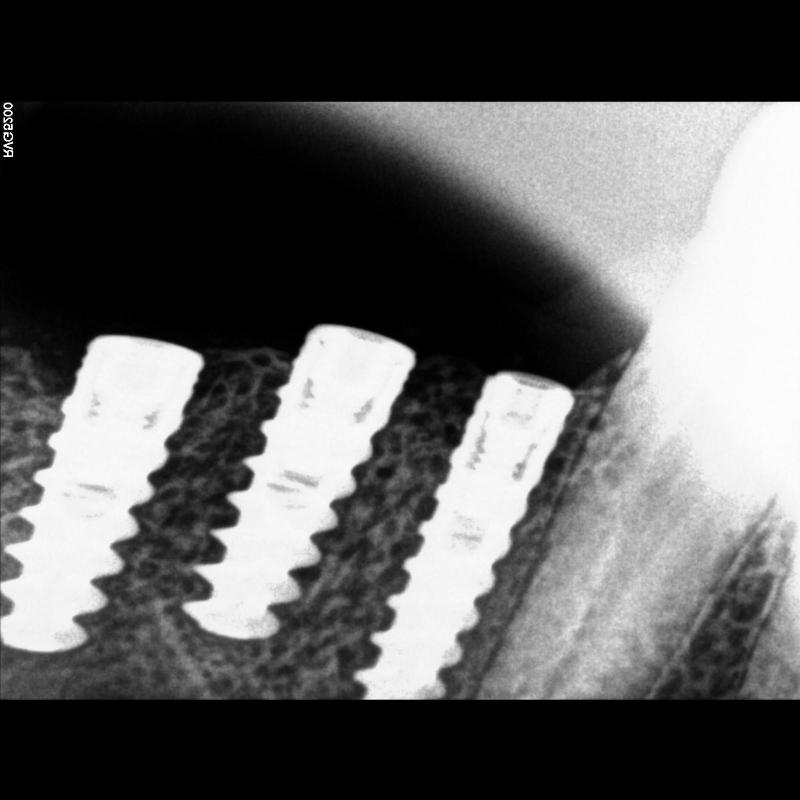ADIN: (183, 320, 417, 638), (355, 376, 575, 698), (1, 343, 204, 654)
